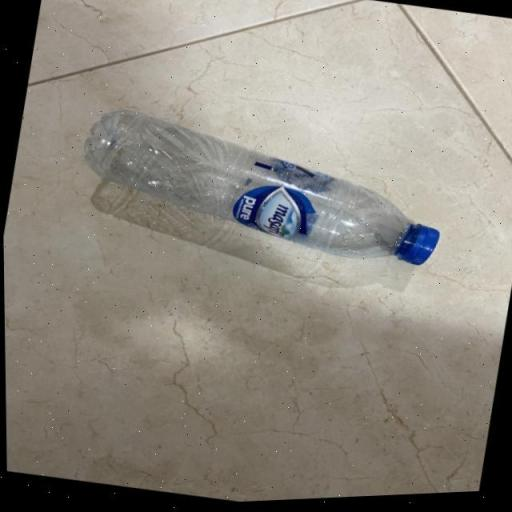plastic: (59, 84, 474, 296)
